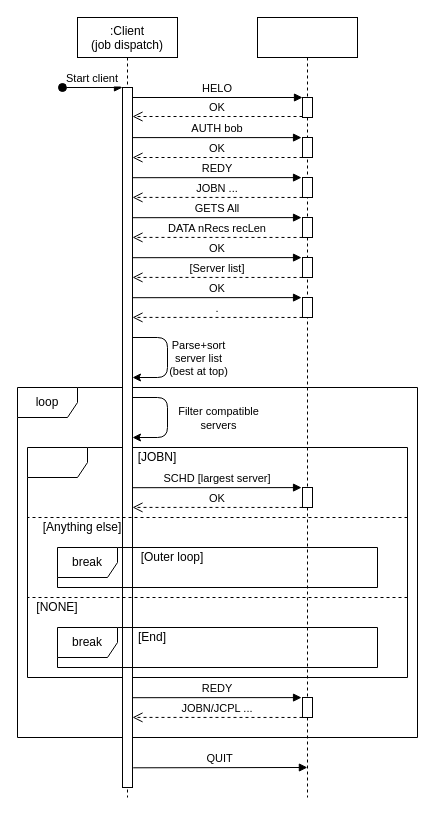
This 435x815 diagram has some shape labels left out. Here are the shapes that lost their labels. From the top down, the box of each, then its label:
(256, 16, 358, 798): :Server
(26, 446, 408, 678): alt
